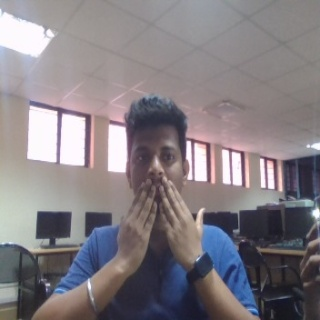Thank You: (114, 180, 212, 278)
